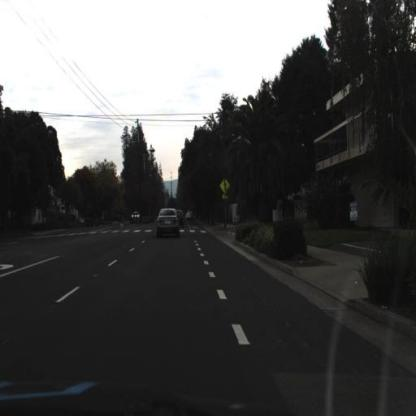car: (153, 201, 183, 249), (128, 209, 144, 229), (178, 205, 187, 231), (178, 206, 186, 234), (186, 205, 193, 226)
